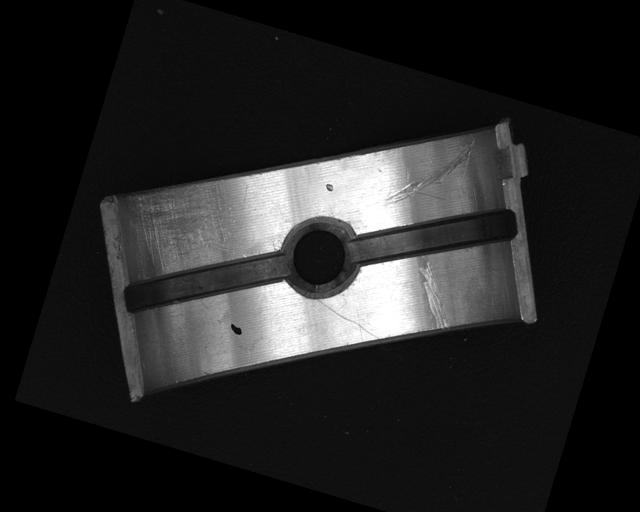blot: (227, 322, 245, 336)
bruise: (324, 182, 335, 193)
gap: (116, 215, 290, 352), (347, 170, 524, 304)
hole: (272, 209, 367, 308)
nick: (383, 117, 477, 222), (402, 254, 466, 332), (310, 299, 388, 340)
scratch: (109, 147, 248, 287)
